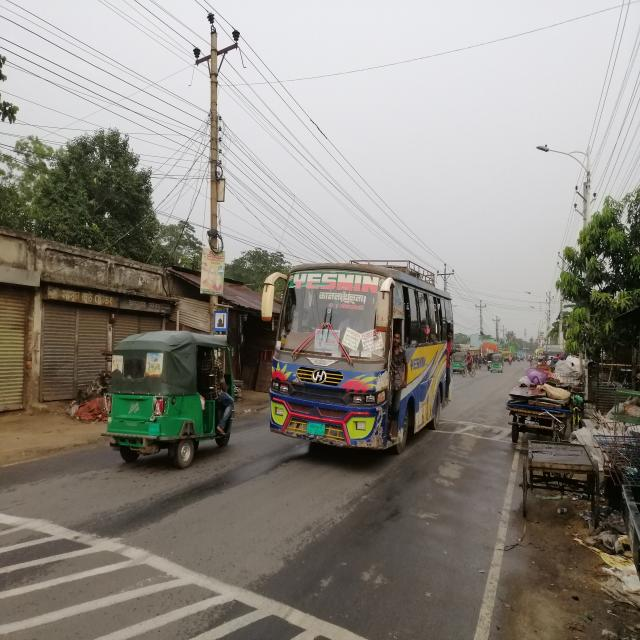Bus: (259, 258, 468, 456)
CNG: (105, 321, 240, 476)
